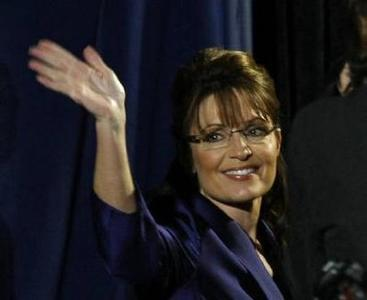person: (28, 39, 299, 300)
